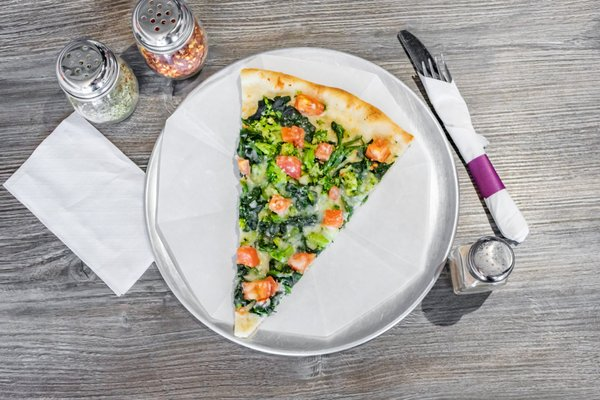sandwich: (398, 28, 529, 244)
